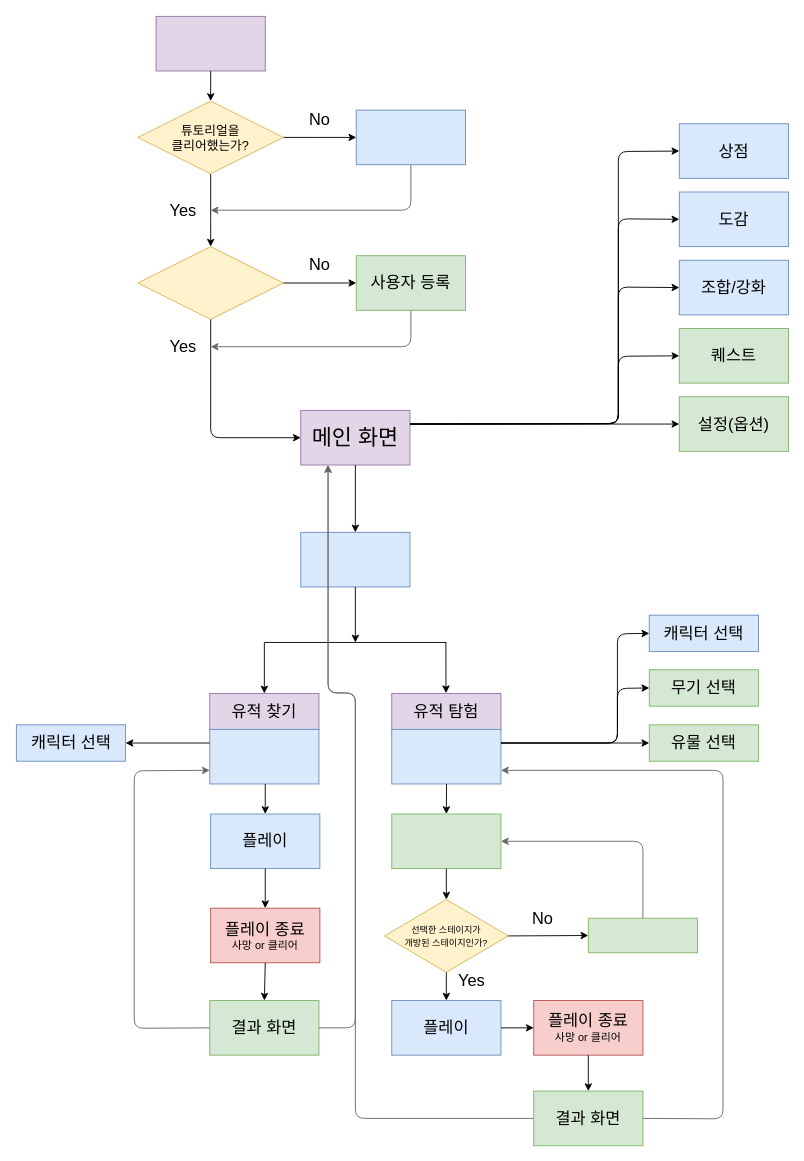
Some shapes in this 804 by 1161 pixel diagram are drawn without their labels. The box of each missing label's shape, as (x1, y1, x2, y2) in pixels:
대기화면: (209, 728, 319, 784)
모험 (게임 선택): (300, 531, 410, 587)
미개방 스테이지 팝업 출력: (587, 917, 698, 953)
사용자 등록이 완료되었는가?: (137, 246, 283, 319)
세부 스테이지 선택: (391, 813, 501, 869)
스테이지 선택: (391, 728, 501, 784)
시작 화면: (155, 15, 265, 71)
튜토리얼: (355, 109, 465, 165)
